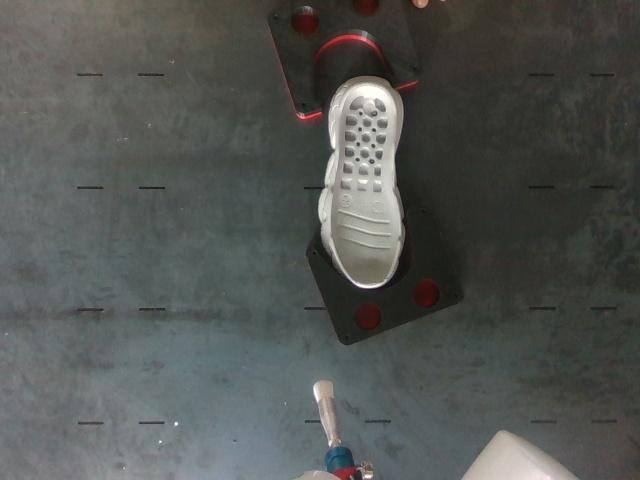shoes: (331, 84, 400, 287)
